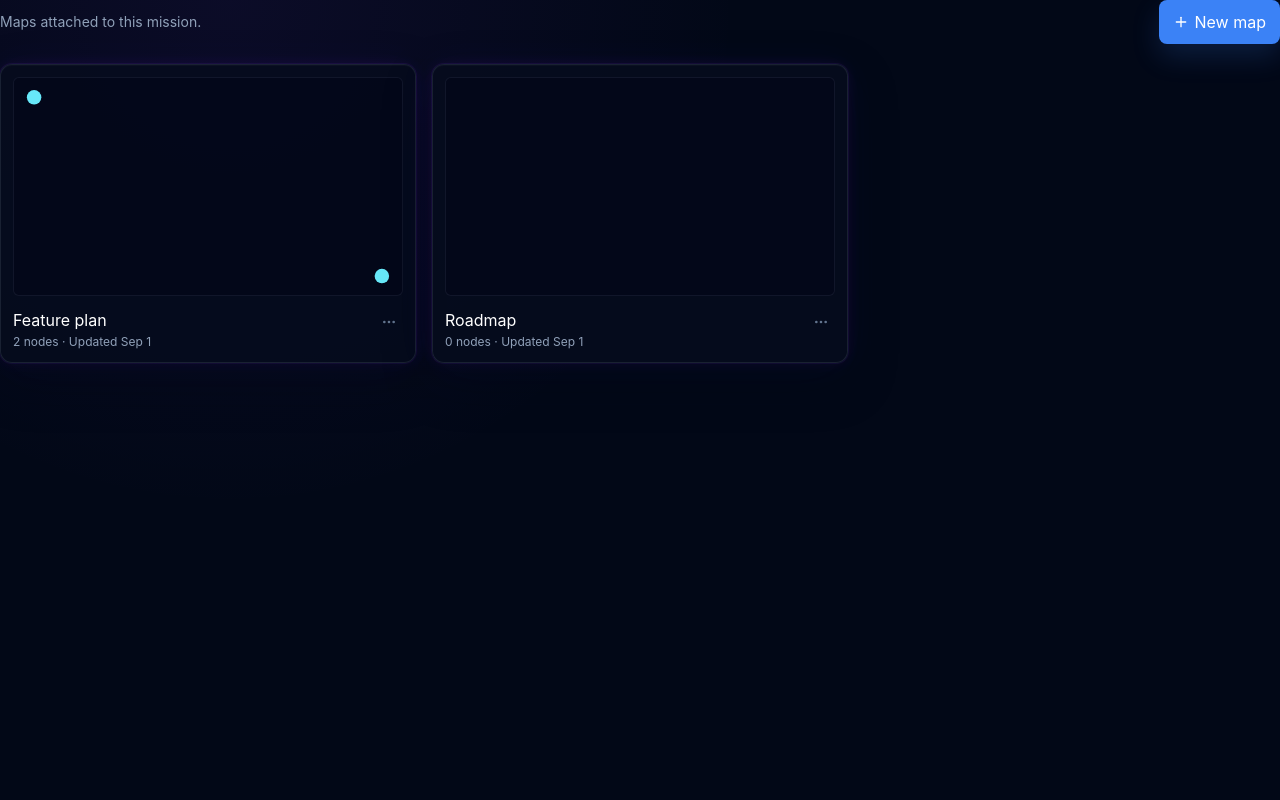
Test: MapLibraryPage › creates a map from a template, persists its nodes, and opens it
Check: the button "Feature plan" is shown, box [13,308,107,332]
Click the button "New map": (1219, 22) [1158,0,1279,44]
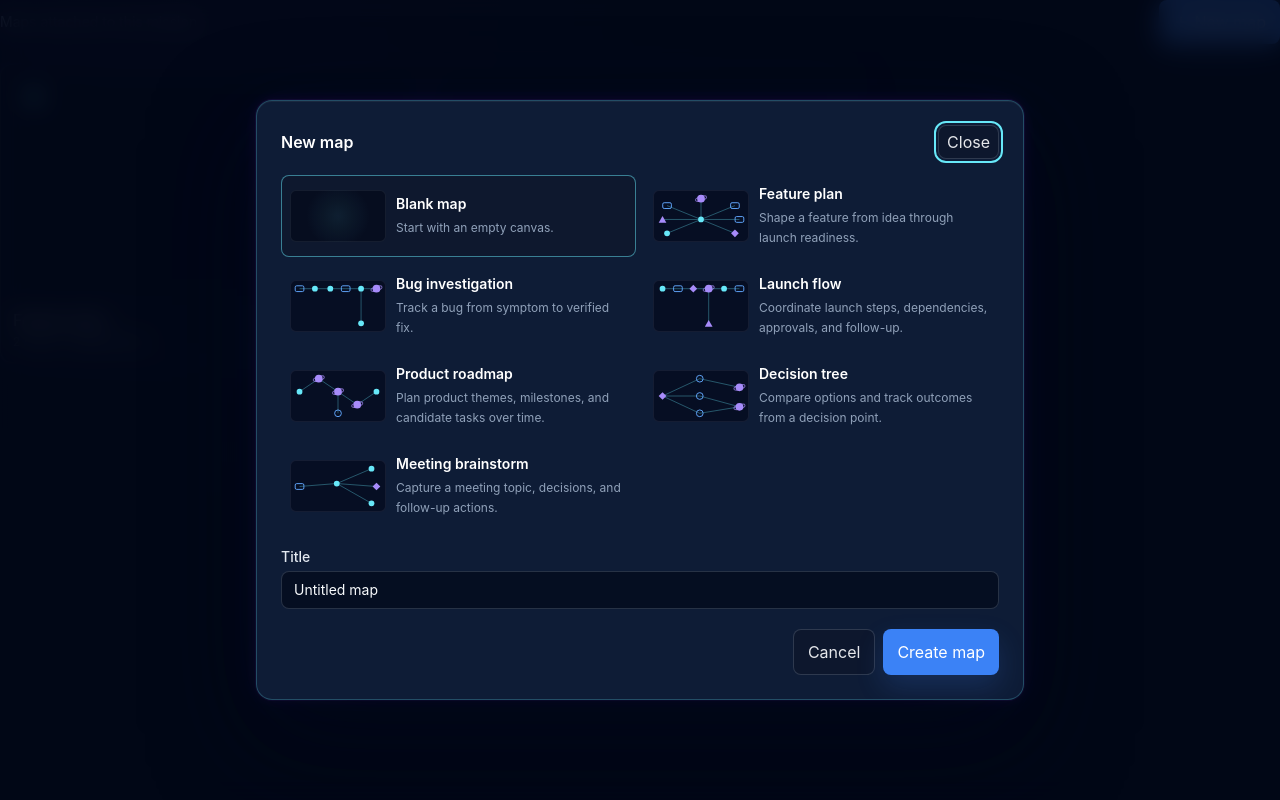
Click the radio button labelled "Feature plan": (822, 216) [644,175,999,257]
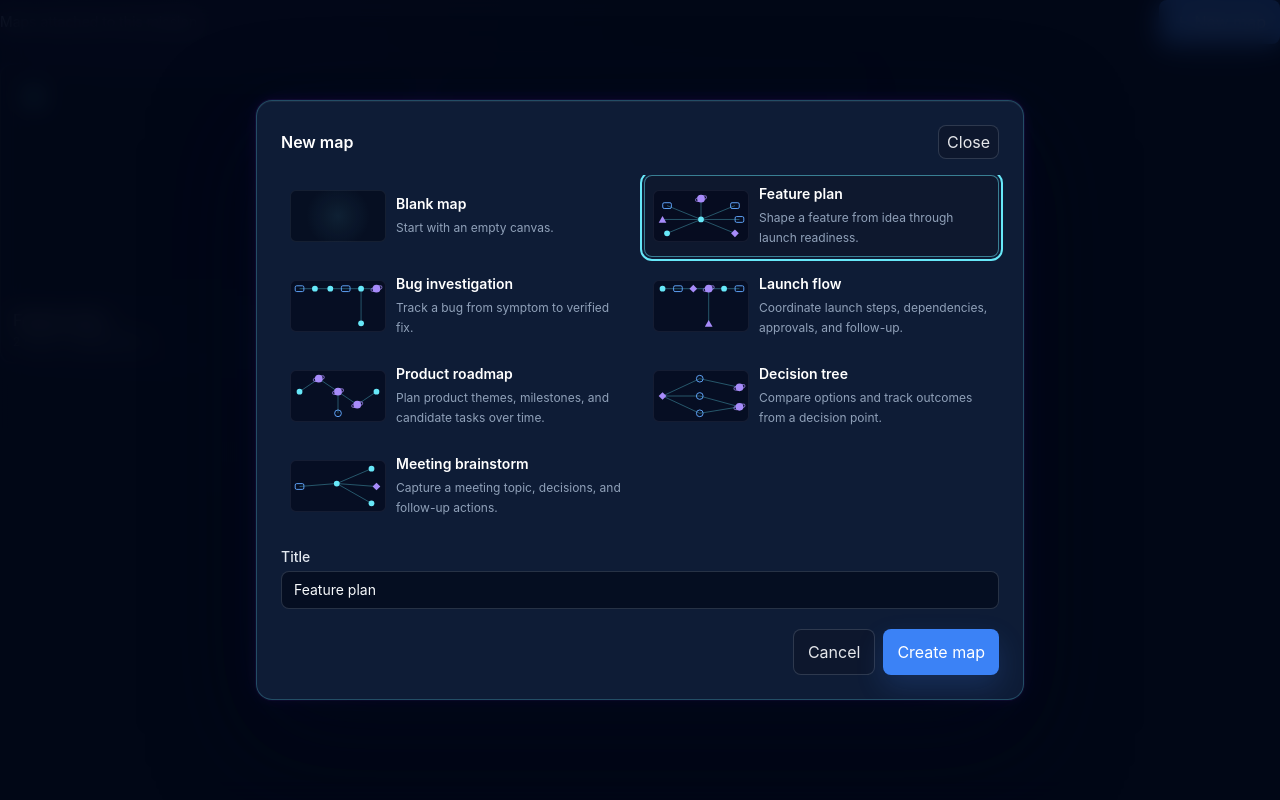
Click the button "Create map": (941, 652) [883,629,999,675]
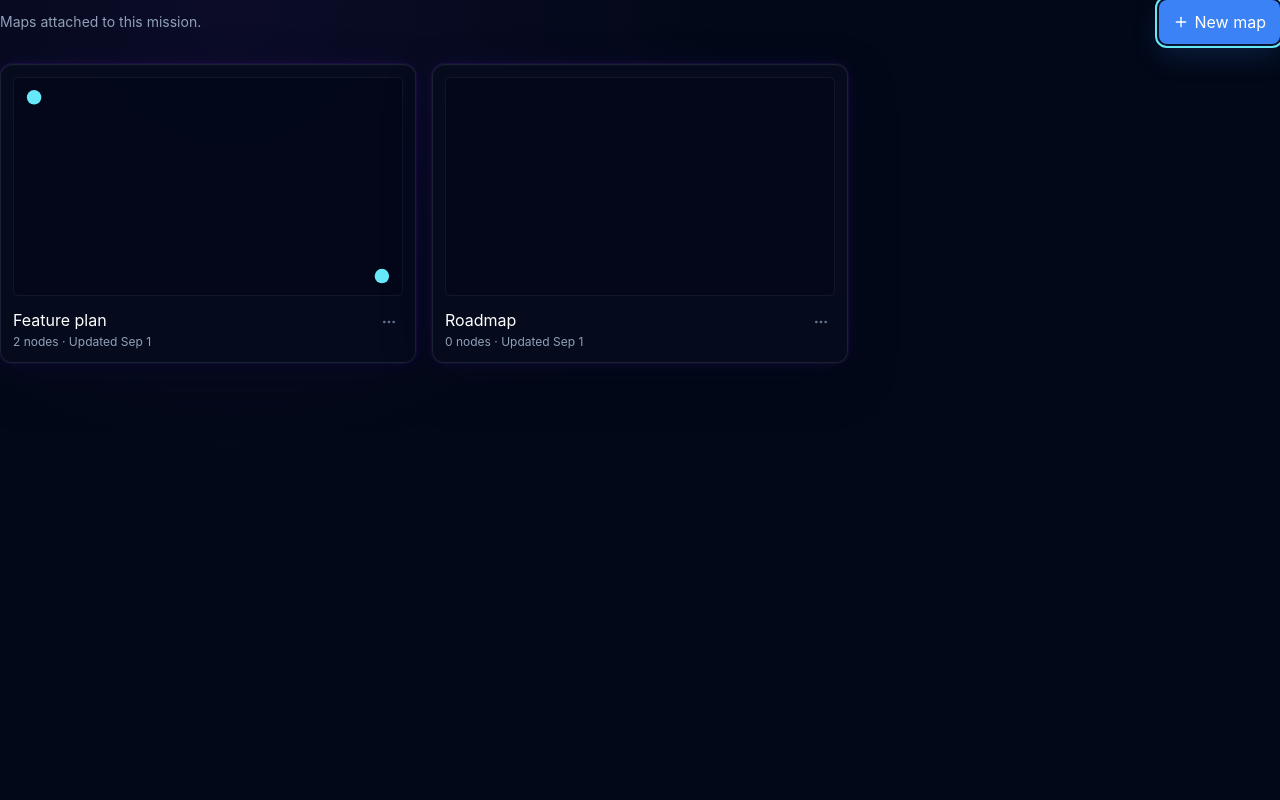
Check: the button "Feature plan" is shown, box [13,308,107,332]
Check: the dialog is gone
